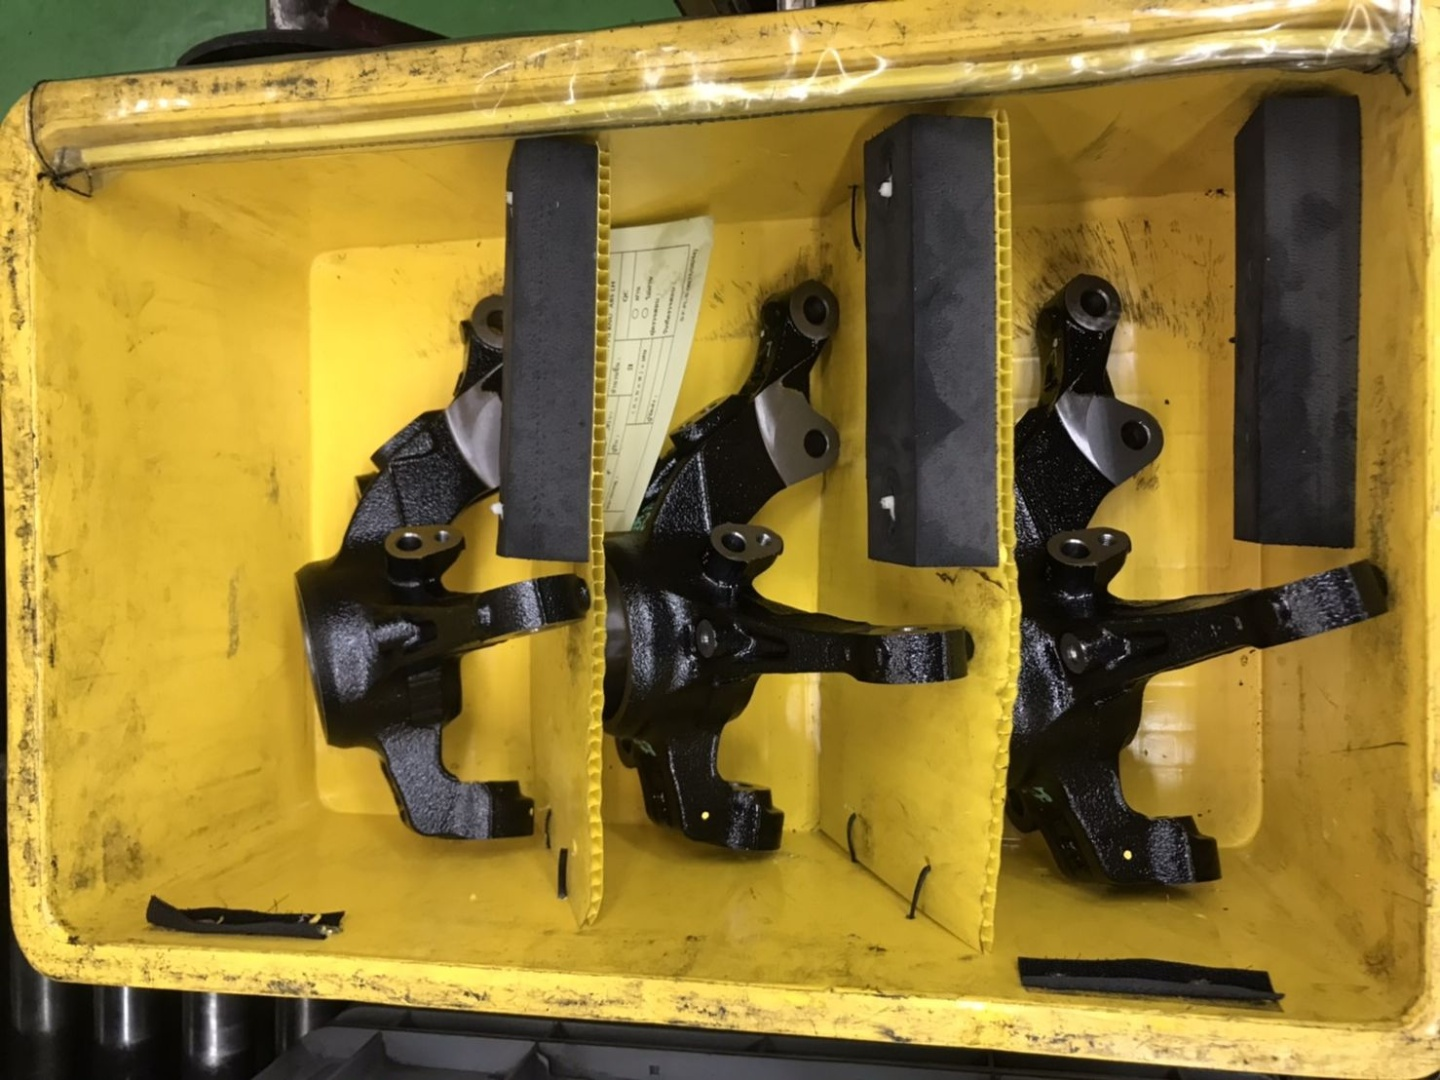abs-lh: (1006, 268, 1404, 895), (596, 278, 986, 863), (281, 281, 592, 857)
